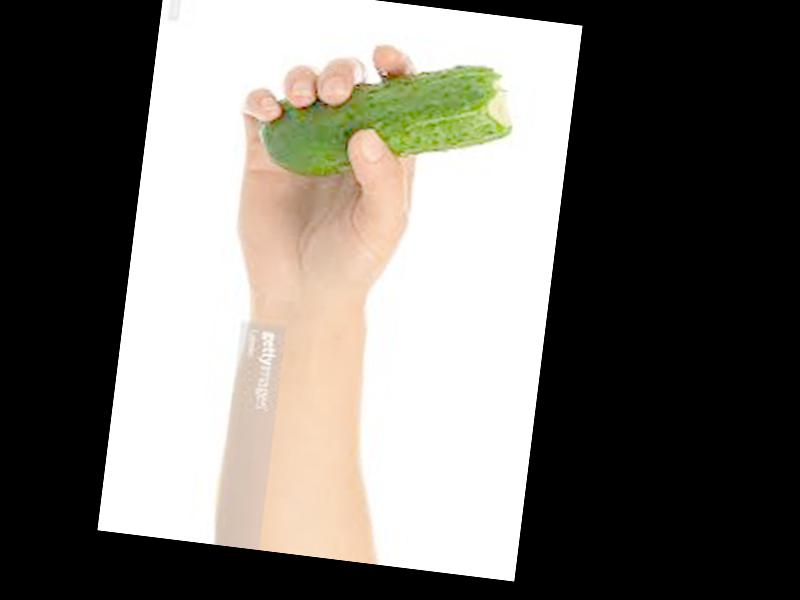Cucumber: (257, 41, 518, 198)
